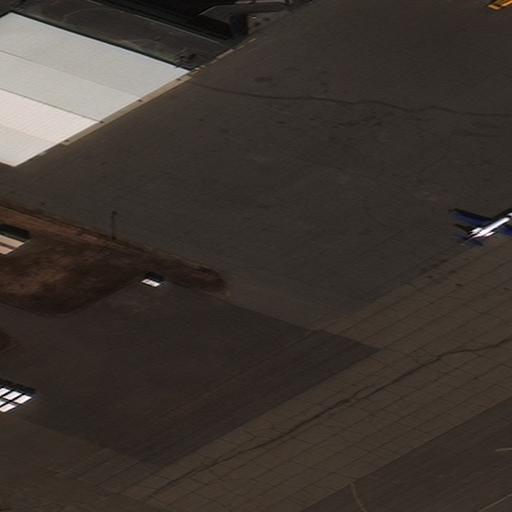Medium Civil Transport: (452, 209, 512, 244)
